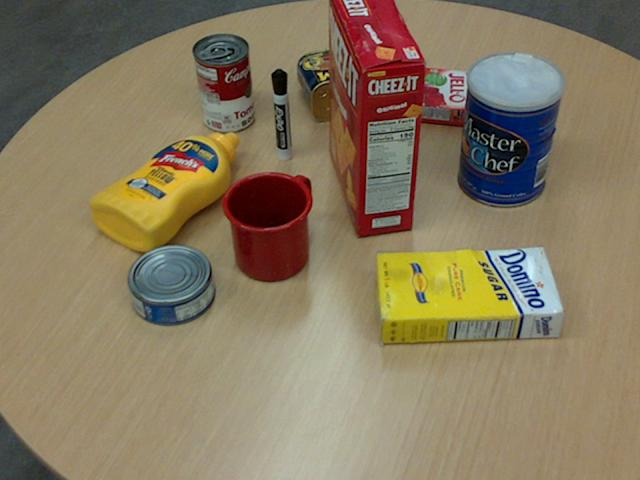cracker_box: (327, 0, 424, 234)
gelatin_box: (410, 66, 475, 125)
large_marker: (271, 68, 290, 161)
master_chef_can: (457, 52, 563, 208)
mug: (220, 171, 312, 281)
mustard_bottle: (88, 132, 238, 251)
potted_meat_can: (296, 44, 388, 120)
sugar_box: (372, 247, 564, 346)
tomato_soup_can: (192, 32, 253, 131)
tuna_fish_can: (126, 244, 213, 325)
